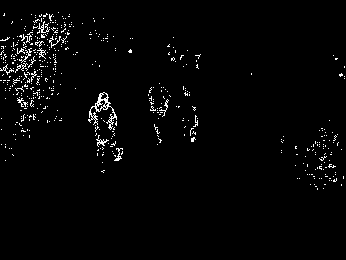person: (87, 90, 123, 175), (146, 78, 172, 145)
